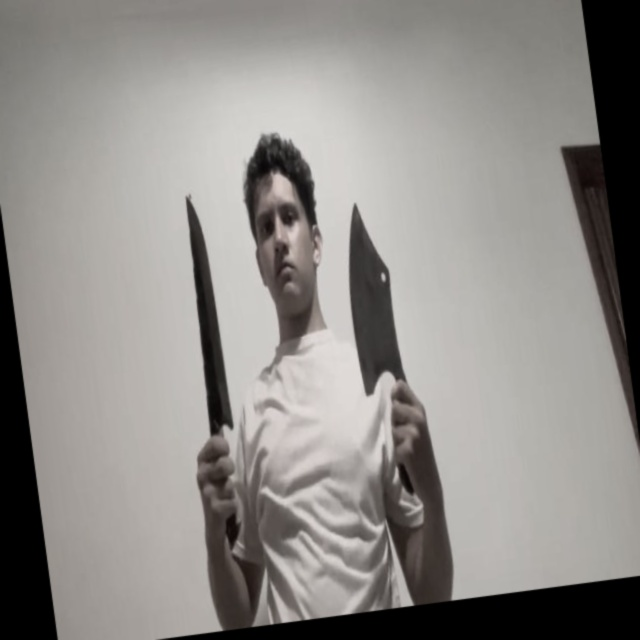Sharp-Object: (336, 199, 406, 399), (179, 193, 237, 434)
